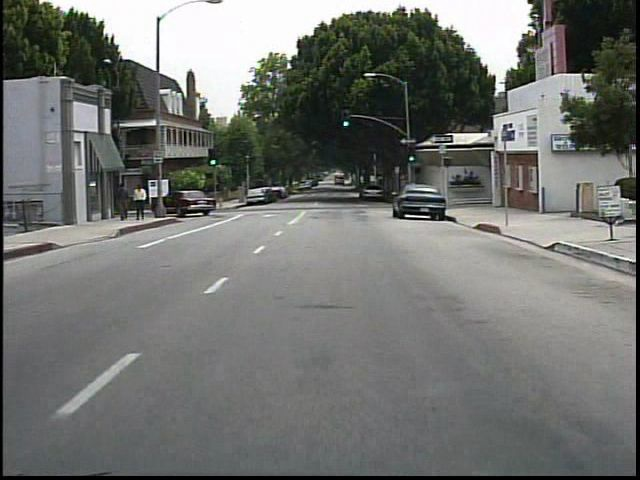person: (119, 182, 136, 223), (135, 183, 152, 222)
